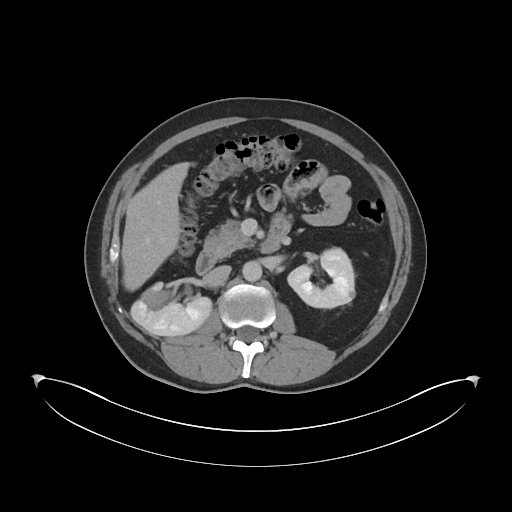Lesion: (346, 290, 357, 300)
